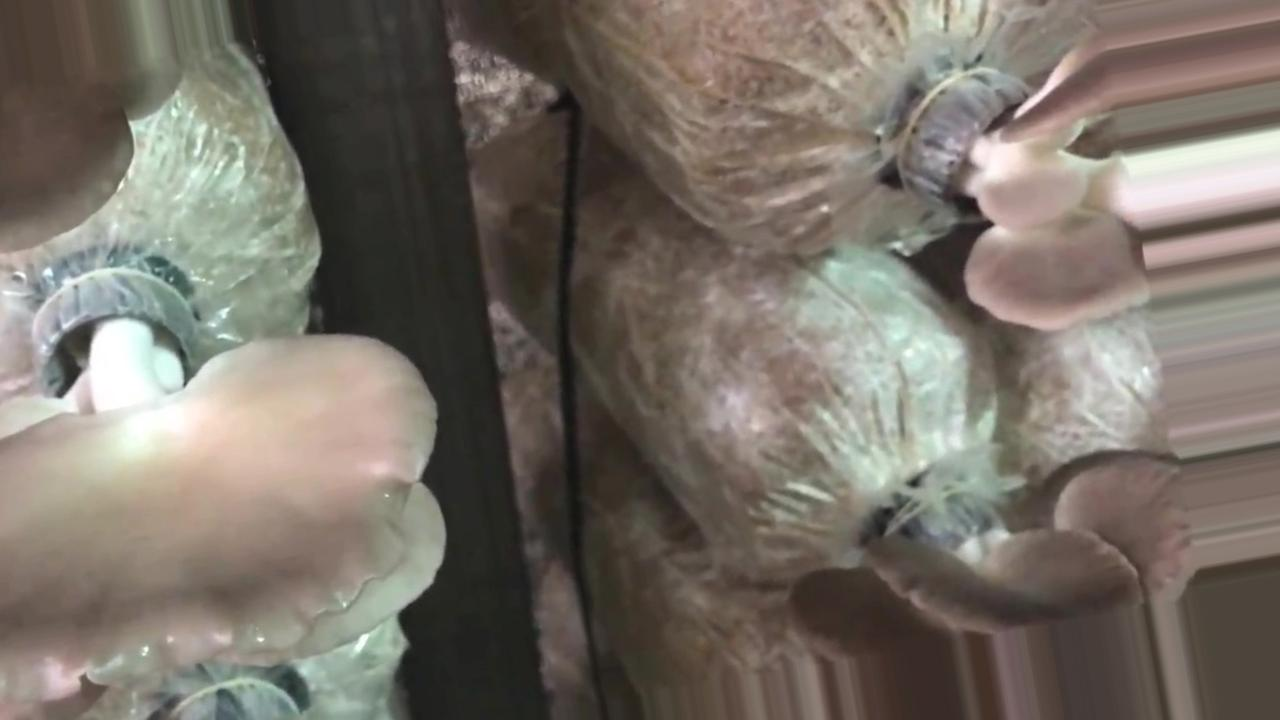nam: (1, 252, 445, 682), (789, 448, 1185, 666), (892, 27, 1150, 334), (1, 1, 184, 256)
